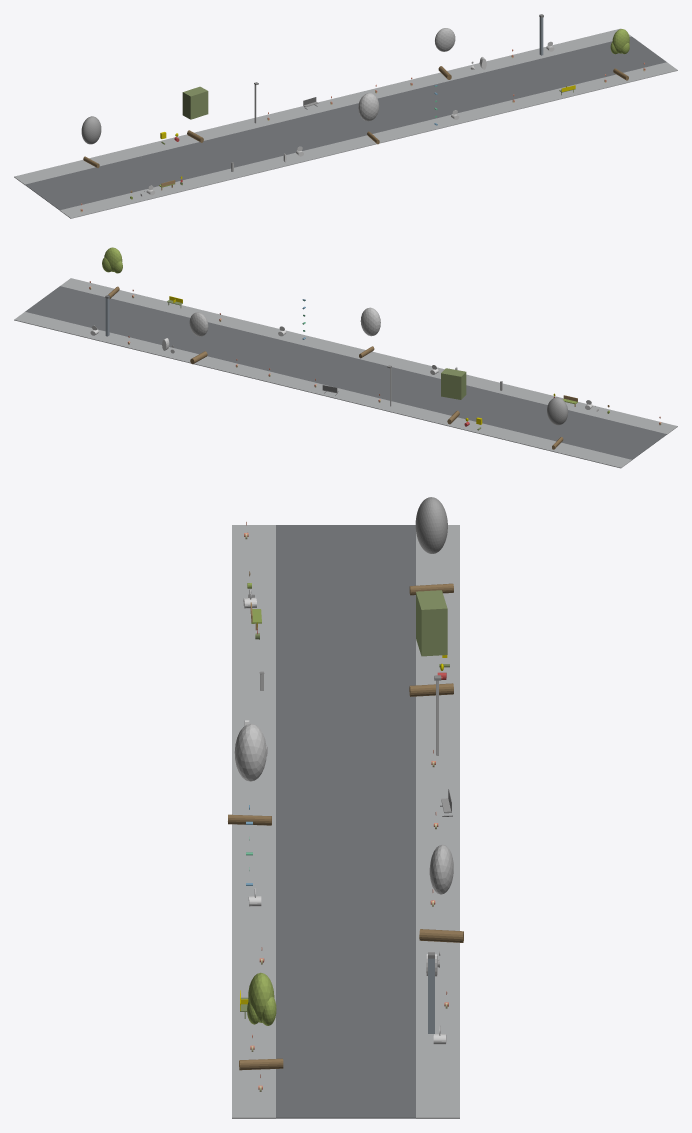
3 renders of one model, top to bottom at view 1: azimuth 30°, elevation 25°; view 2: azimuth 150°, elevation 25°; view 3: azimuth 270°, elevation 25°, orthographic. The views are drawn at different scales.
Visible parts, largest first — view 1: road_slab, sidewalk_left, sidewalk_right, inst_0013, inst_0014, inst_0012, inst_0015, inst_0016; view 2: road_slab, sidewalk_right, sidewalk_left, inst_0013, inst_0012, inst_0014, inst_0016, inst_0015; view 3: road_slab, sidewalk_left, sidewalk_right, inst_0013, inst_0014, inst_0012, inst_0016, inst_0015.
Boxes of the visible parts, x1,y1,x2,y2 form: road_slab: (25,36,666,210); sidewalk_left: (60,62,677,218); sidewalk_right: (14,28,631,184); inst_0013: (182,86,208,142); inst_0014: (358,93,379,144); inst_0012: (81,116,101,167); inst_0015: (435,28,455,79); inst_0016: (610,29,629,80); road_slab: (25,286,666,459); sidewalk_right: (14,312,631,468); sidewalk_left: (60,278,677,434); inst_0013: (441,368,466,424); inst_0012: (547,397,568,449); inst_0014: (359,307,380,358); inst_0016: (102,247,122,298); inst_0015: (189,312,208,364); road_slab: (276,525,415,1118); sidewalk_left: (232,525,275,1118); sidewalk_right: (416,525,459,1118); inst_0013: (409,590,453,696); inst_0014: (228,723,271,825); inst_0012: (409,497,453,595); inst_0016: (239,972,283,1070); inst_0015: (419,844,463,942).
Size of the model in its own units: 80 by 6.08 by 13.49.
